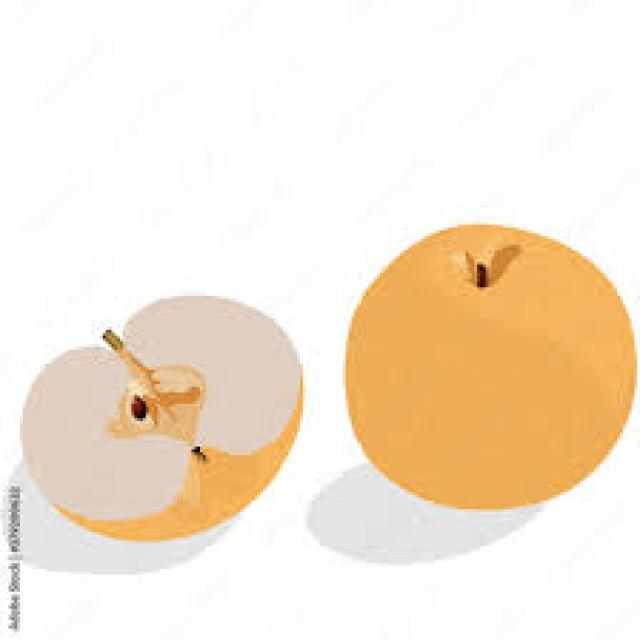Pear: (323, 219, 637, 526)
